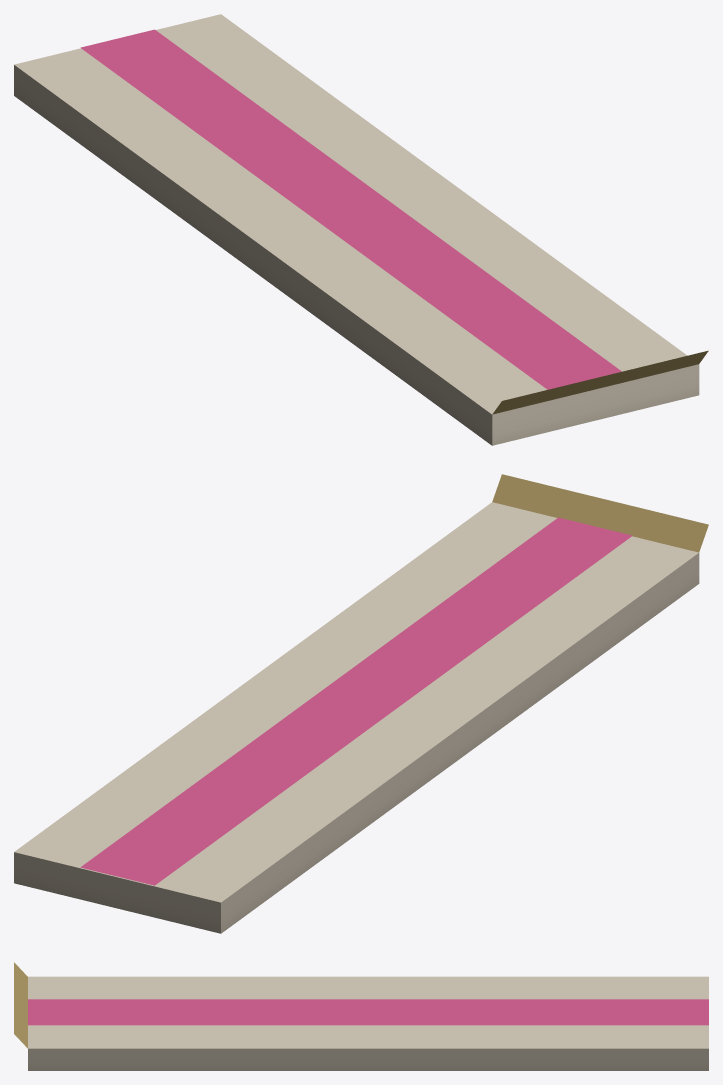
Rendered from road-page.glb.
The picture shows the model from 3 angles, top to bottom: view 1: azimuth 30°, elevation 25°; view 2: azimuth 150°, elevation 25°; view 3: azimuth 270°, elevation 25°; orthographic projection. The views are drawn at different scales.
Visible parts, largest first — view 1: root_mesh; view 2: root_mesh; view 3: root_mesh.
Boxes of the visible parts, bbox=[...] form: root_mesh: bbox=[14, 14, 708, 445]; root_mesh: bbox=[14, 474, 708, 933]; root_mesh: bbox=[14, 962, 708, 1070].
Size of the model in its own units: 0.539 by 0.1294 by 2.2.
